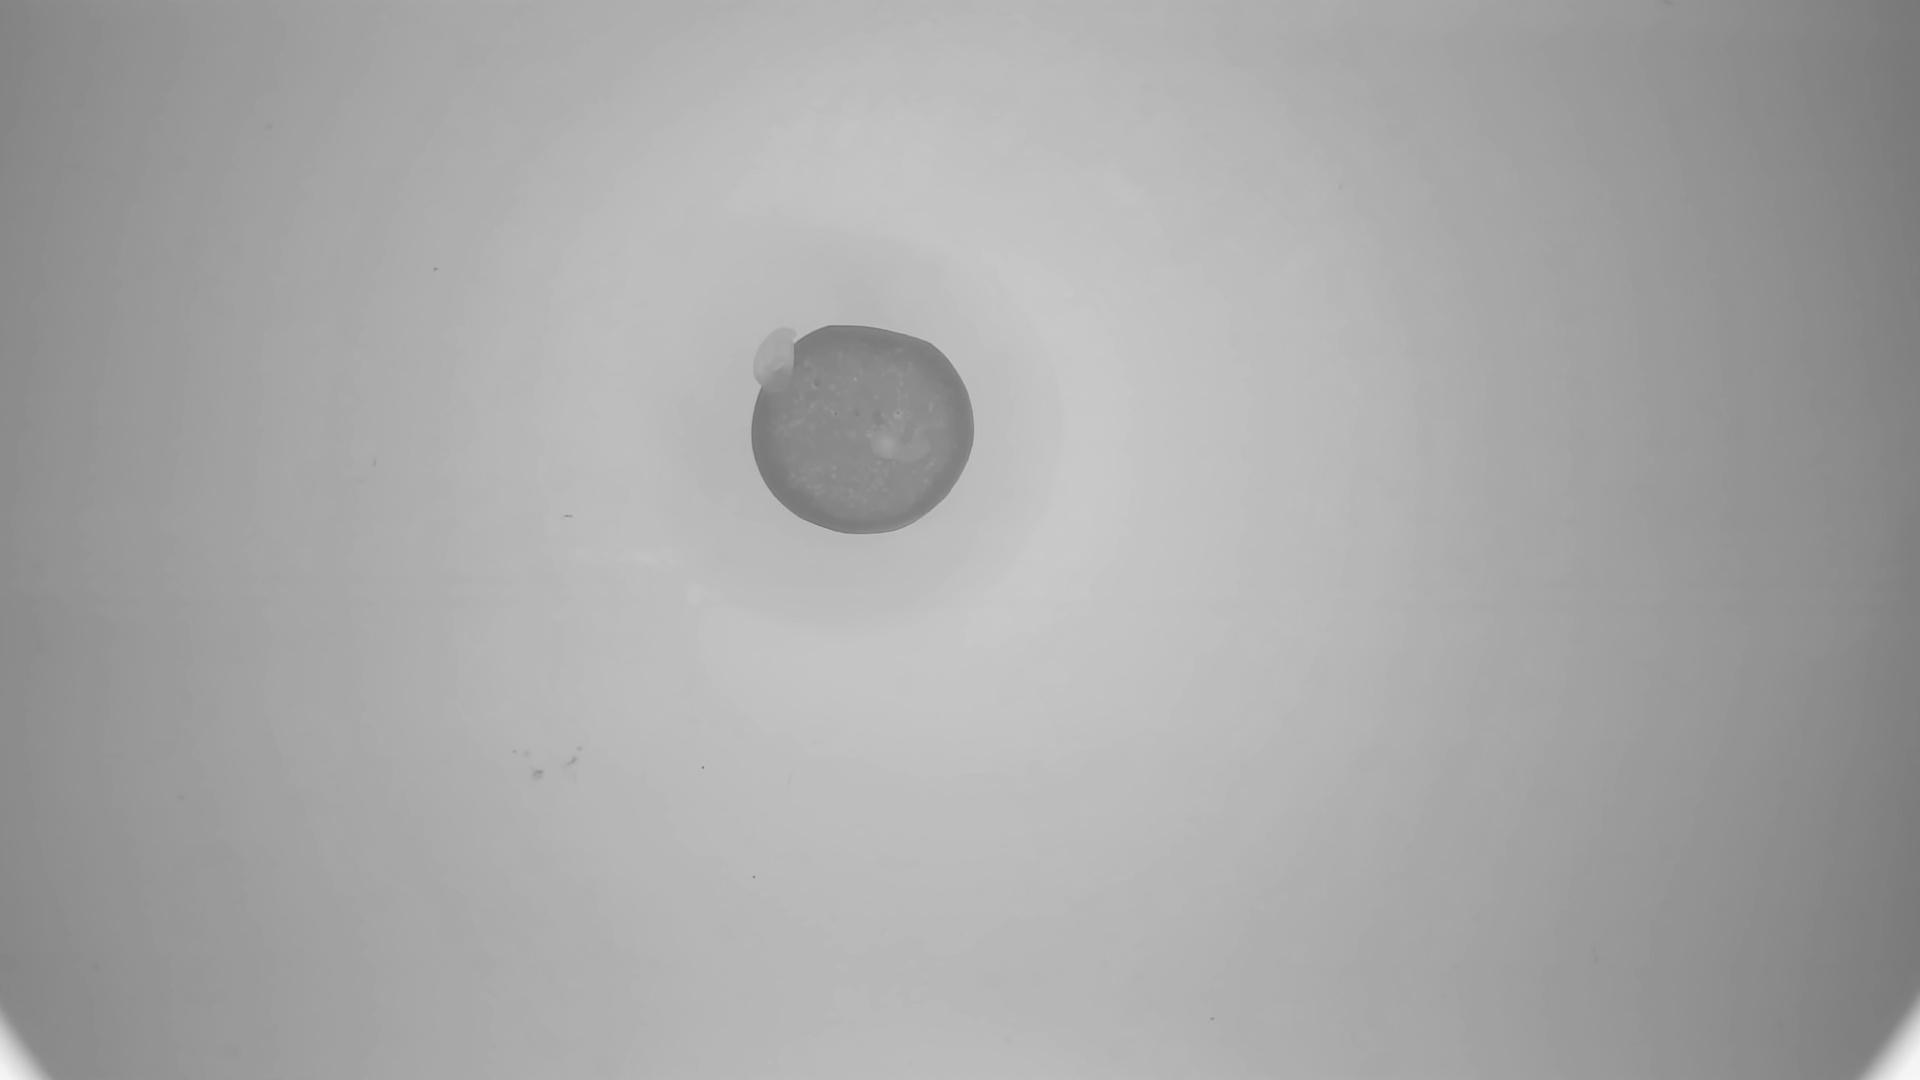abnormal: (746, 318, 981, 539)
